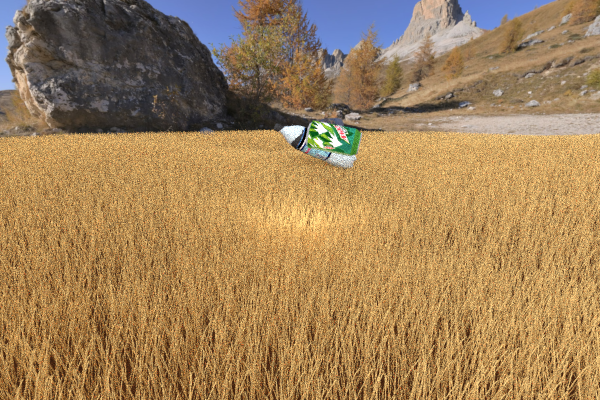bottle: (273, 123, 356, 169)
can: (121, 121, 199, 165), (305, 120, 362, 156)
